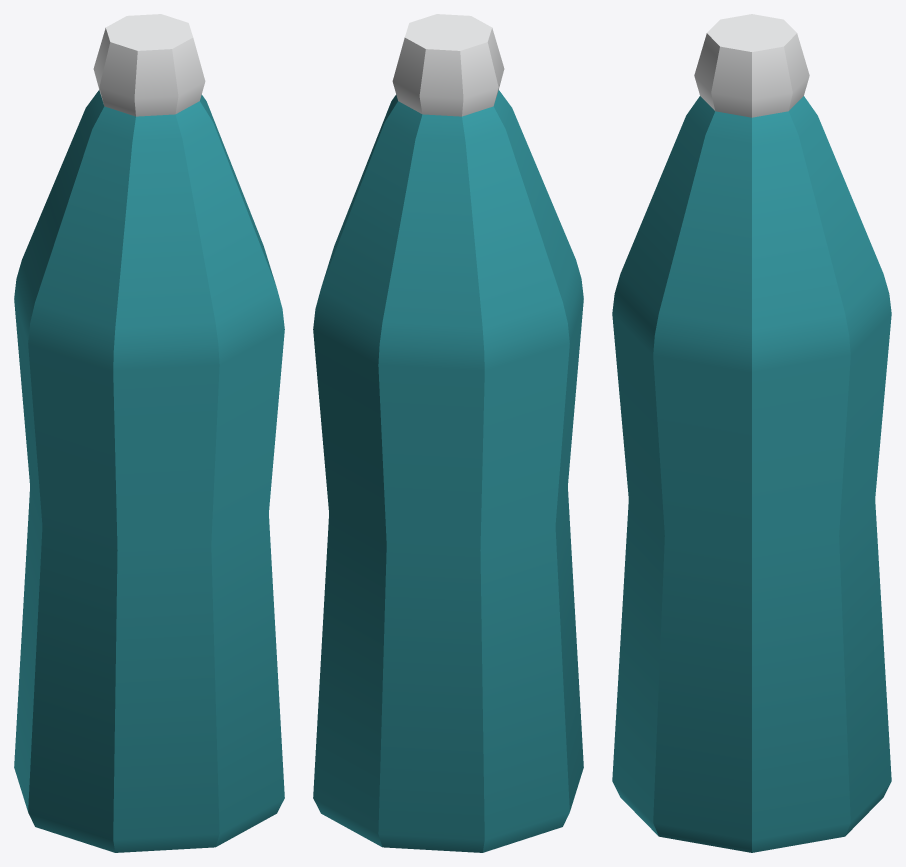
The model's file is WaterBottele.fbx.
3 views of the same model, side by side, from view 1: azimuth 30°, elevation 25°; view 2: azimuth 150°, elevation 25°; view 3: azimuth 270°, elevation 25° (orthographic).
Visible parts, largest first — view 1: Water bottle; view 2: Water bottle; view 3: Water bottle.
Boxes of the visible parts, box(x1,y1,x2,y2) form: Water bottle: box(14, 14, 284, 852); Water bottle: box(313, 14, 583, 852); Water bottle: box(612, 14, 891, 852).
Size of the model in its own units: 39.75 by 121 by 39.75.
